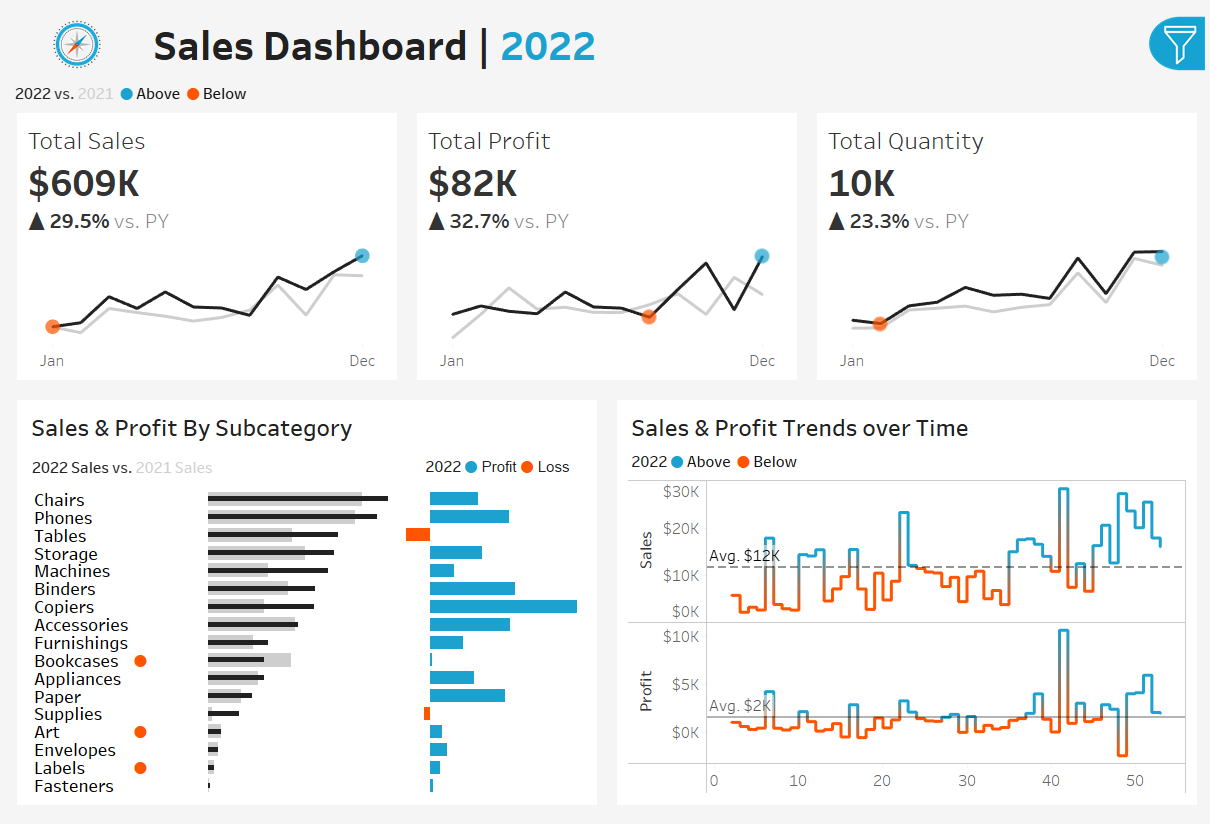

Layout of this report page (visuals, bound fields, positions):
{"tool":"tableau","page":{"name":"Sales Dashboard","canvas":[1200,800],"ordinal":0},"visuals":[{"type":"image","param":"C:/Users/lichm/OneDrive/Plocha/Tableau Data/TableauProject-SalesDashboard/Dashbo","box":[0,0,139,58]},{"type":"text","box":[139,0,794,58]},{"type":"blank","box":[966,0,233,74]},{"type":"worksheet","title":"Legend KPI","mark":"Automatic","box":[0,58,1200,40]},{"type":"text","box":[966,74,233,40]},{"type":"worksheet","title":"KPI Sales","mark":"Line","rows":["Calculation_1391612326400131076"],"cols":["Order Date"],"box":[0,98,400,277]},{"type":"worksheet","title":"KPI Profit","mark":"Line","rows":["Calculation_1442277823597641734"],"cols":["Order Date"],"box":[400,98,400,277]},{"type":"worksheet","title":"KPI Quantity","mark":"Line","rows":["Calculation_1442277823610089489"],"cols":["Order Date"],"box":[800,98,400,277]},{"type":"parameter","param":"[Parameters].[Parameter 1]","box":[966,114,233,56]},{"type":"text","box":[966,170,233,33]},{"type":"filter","title":"KPI Sales","param":"[federated.1jzjwjh1y2pk0o1cebskm1n2bbqr].[none:Category:nk]","box":[966,203,233,61]},{"type":"filter","title":"KPI Sales","param":"[federated.1jzjwjh1y2pk0o1cebskm1n2bbqr].[none:Sub-Category:nk]","box":[966,264,233,61]},{"type":"blank","box":[966,325,233,39]},{"type":"text","box":[966,364,233,33]},{"type":"text","box":[17,392,566,40]},{"type":"text","box":[617,392,566,40]},{"type":"filter","title":"KPI Sales","param":"[federated.1jzjwjh1y2pk0o1cebskm1n2bbqr].[none:Region:nk]","box":[966,397,233,61]},{"type":"worksheet","title":"Legend Subcategory","mark":"Automatic","box":[17,432,394,39]},{"type":"text","box":[411,432,172,39]},{"type":"text","box":[617,432,566,29]},{"type":"filter","title":"KPI Sales","param":"[federated.1jzjwjh1y2pk0o1cebskm1n2bbqr].[none:State:nk]","box":[966,458,233,61]},{"type":"worksheet","title":"Weekly Trends","mark":"Automatic","rows":["Calculation_1391612326392766464","Calculation_1391612326413369355"],"cols":["Order Date"],"box":[617,461,566,322]},{"type":"worksheet","title":"Subcategory Comparison","mark":"Bar","rows":["Sub-Category","Calculation_1391612326415691788"],"cols":["CY Sales (copy)_1391612326393315329","Calculation_1391612326392766464","Calculation_1391612326413369355"],"box":[17,471,566,312]},{"type":"filter","title":"KPI Sales","param":"[federated.1jzjwjh1y2pk0o1cebskm1n2bbqr].[none:City:nk]","box":[966,519,233,61]}]}

Visuals, with their boxes in screenshot pixels (x1, y1, x2, y2), scaled from the page's 1200x800 canvas onto the 1210x824 screenshot:
image: locate(0, 0, 140, 60)
text: locate(140, 0, 941, 60)
blank: locate(974, 0, 1209, 76)
"Legend KPI" worksheet: locate(0, 60, 1209, 101)
text: locate(974, 76, 1209, 117)
"KPI Sales" worksheet (Line marks): locate(0, 101, 403, 386)
"KPI Profit" worksheet (Line marks): locate(403, 101, 807, 386)
"KPI Quantity" worksheet (Line marks): locate(807, 101, 1209, 386)
parameter: locate(974, 117, 1209, 175)
text: locate(974, 175, 1209, 209)
"KPI Sales" filter: locate(974, 209, 1209, 272)
"KPI Sales" filter: locate(974, 272, 1209, 335)
blank: locate(974, 335, 1209, 375)
text: locate(974, 375, 1209, 409)
text: locate(17, 404, 588, 445)
text: locate(622, 404, 1193, 445)
"KPI Sales" filter: locate(974, 409, 1209, 472)
"Legend Subcategory" worksheet: locate(17, 445, 414, 485)
text: locate(414, 445, 588, 485)
text: locate(622, 445, 1193, 475)
"KPI Sales" filter: locate(974, 472, 1209, 535)
"Weekly Trends" worksheet: locate(622, 475, 1193, 806)
"Subcategory Comparison" worksheet (Bar marks): locate(17, 485, 588, 806)
"KPI Sales" filter: locate(974, 535, 1209, 597)
